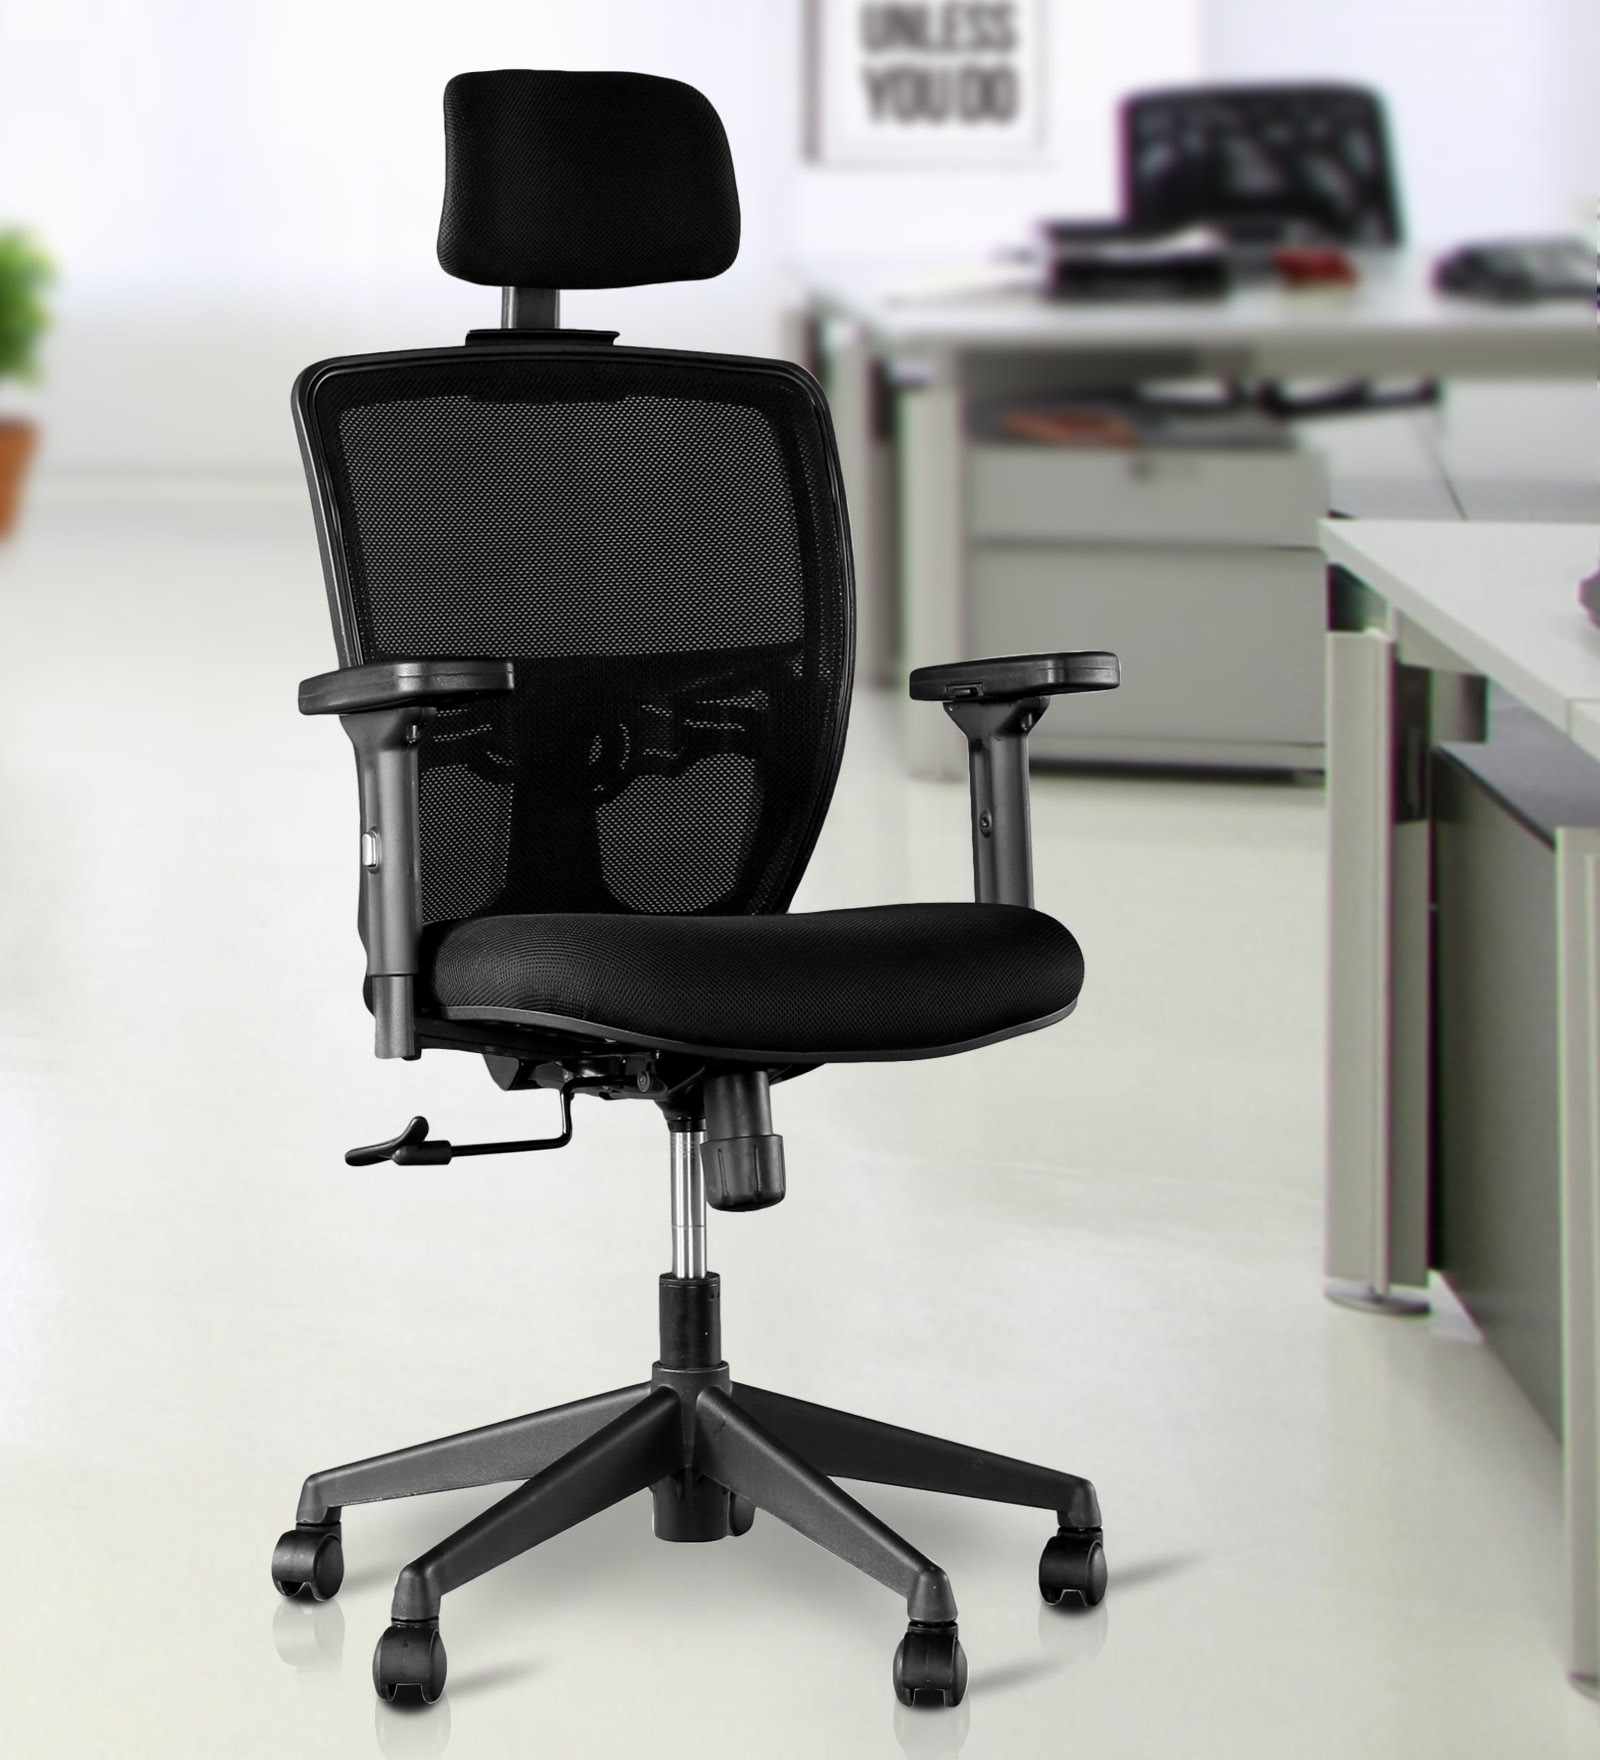Aspire High Back Ergonomic Chair in Black Colour by HomeTown: (219, 48, 1165, 1735)
